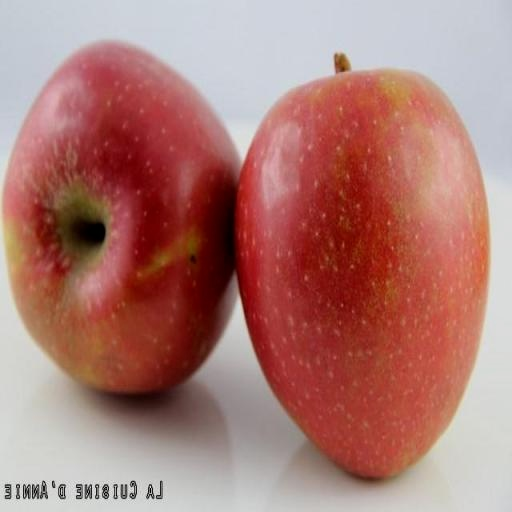fruit: (235, 56, 488, 476), (3, 43, 238, 392)
